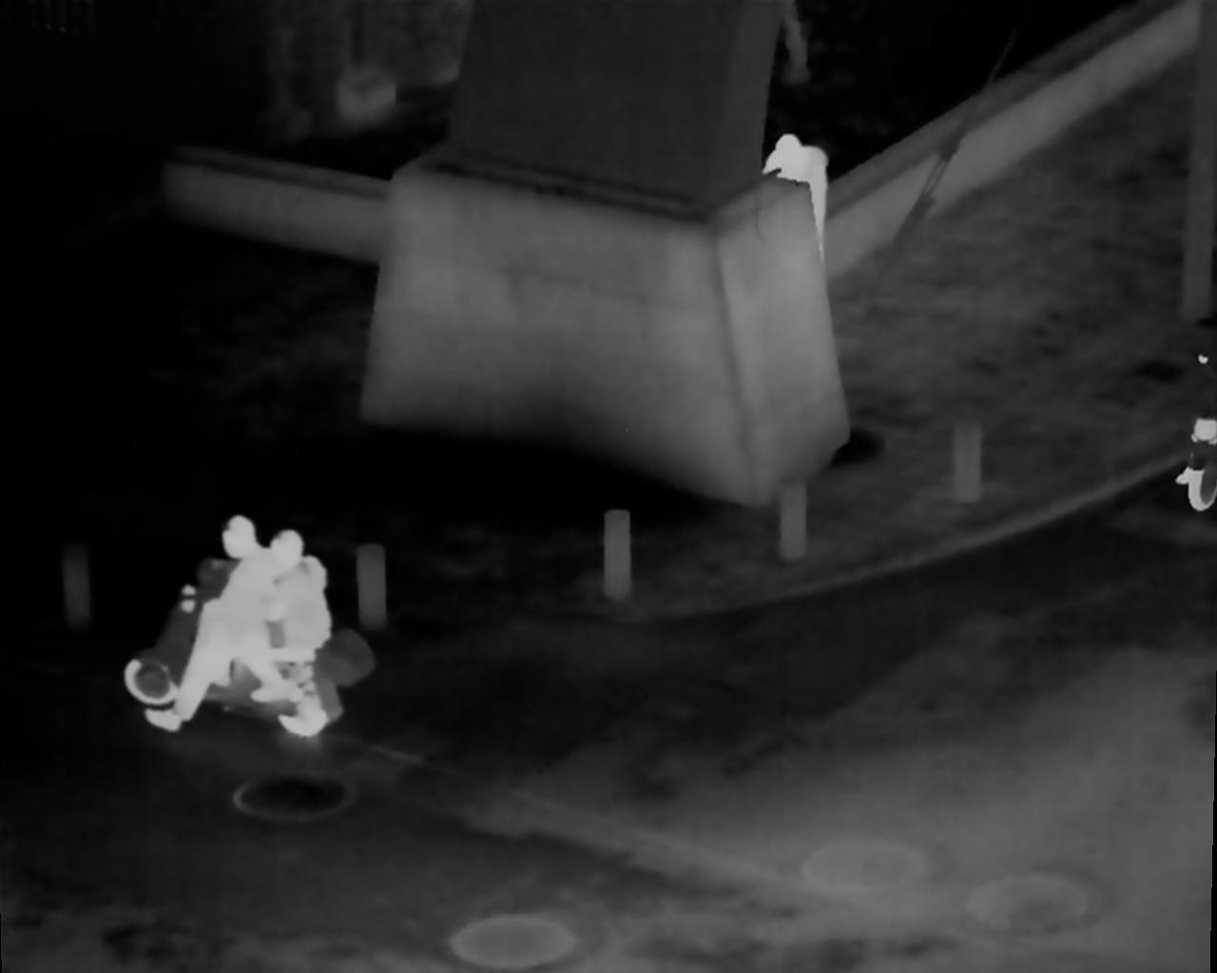person: (146, 519, 276, 731), (261, 527, 332, 746), (764, 132, 829, 283)
